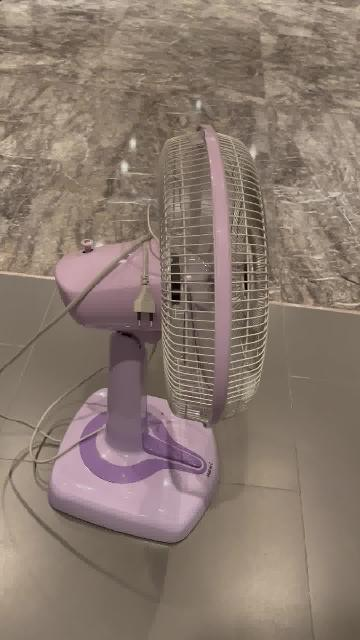Fan: (48, 125, 269, 547)
